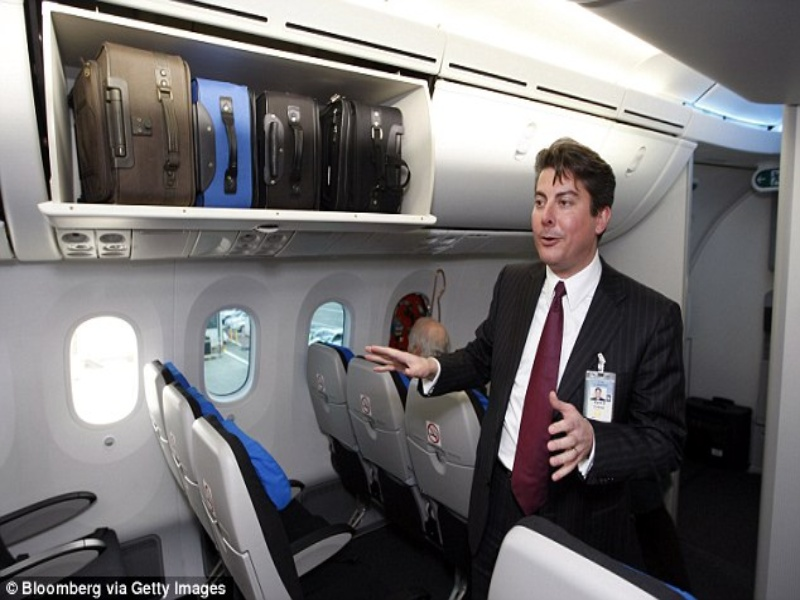close_bin: (428, 53, 672, 255)
open_bin: (17, 1, 454, 259)
